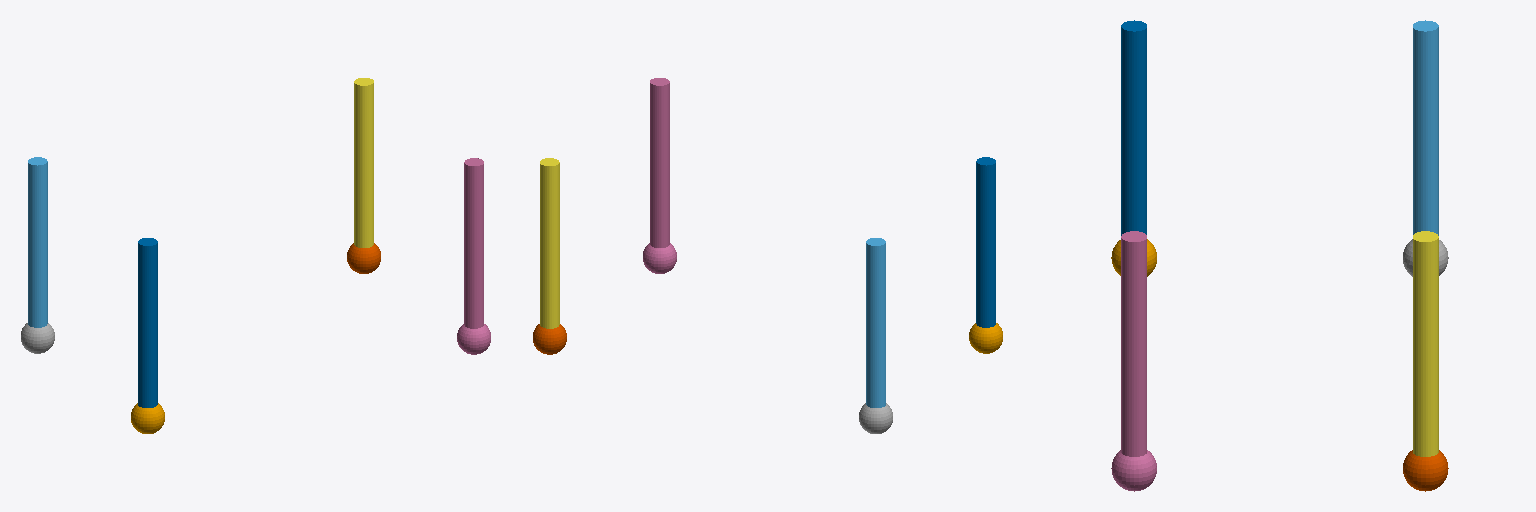
The robot description file, URDF, robot "mini_cheetah":
<?xml version="1.0" ?>
<robot name="mini_cheetah" xmlns:xacro="http://ros.org/wiki/xacro">

    <!--!!!!!!!!!!!!!!!!!!BODY!!!!!!!!!!!!!!!!!!!!!!!!!!!!!!!-->
    <link name="body">
        <inertial>
            <mass value="3.3"/>
            <origin xyz="0.0 0.0 0.0"/>
            <inertia ixx="0.011253" ixy="0" ixz="0" iyy="0.036203" iyz="0" izz="0.042673"/>
        </inertial>
        <visual>
            <geometry>
                <mesh filename="meshes/mini_body.obj"/>
            </geometry>
            <origin rpy="0.0 0.0 0.0" xyz="0.0 0.0 0.0"/>
        </visual>
        <collision>
            <geometry>
                <box size="0.23 0.19 0.1"/>
            </geometry>
            <origin rpy="0 0 0" xyz="0 0 0"/>
        </collision>
    </link>

    <!--!!!!!!!!!!!! Front Left Leg !!!!!!!!!!!!!!!!!!!!!!!!!!!!!!!!!!!!-->
    <joint name="torso_to_abduct_fl_j" type="continuous">
        <axis xyz="1 0 0"/>
        <origin rpy="0 0 0" xyz="0.19 0.049 0.0"/>
        <parent link="body"/>
        <child link="abduct_fl"/>
        <limit effort="18" lower="-1.6" upper="1.6" velocity="40"/>
    </joint>
    <link name="abduct_fl">
        <inertial>
            <mass value="0.54"/>
            <origin xyz="0.0 0.036 0."/>
            <inertia ixx="0.000381" ixy="0.000058" ixz="0.00000045" 
                iyy="0.000560" iyz="0.00000095" izz="0.000444"/>
        </inertial>
        <visual>
            <geometry>
                <mesh filename="meshes/mini_abad.obj"/>
            </geometry>
            <origin rpy="0. 0. -1.5708" xyz="-0.055 0.0 0.0"/>
        </visual>
        <!--
        <collision>
            <geometry>
                <cylinder length ="0.02" radius = "0.0475"/>
            </geometry>
            <origin rpy="0 1.5708 -1.5708" xyz="-0.055 0.0 0.0"/>
        </collision>
        <collision>
            <geometry>
                <cylinder length ="0.06" radius = "0.0475"/>
            </geometry>
            <origin rpy="1.5708 0.0 0.0" xyz="0.0 0.0 0.0"/>
        </collision>
        -->
    </link>

    <joint name="abduct_fl_to_thigh_fl_j" type="continuous">
        <axis xyz="0 -1 0"/>
        <origin rpy="0.0 0.0 0.0" xyz="0.0 0.062 0.00"/>
        <parent link="abduct_fl"/>
        <child link="thigh_fl"/>
        <limit effort="18" lower="-2.6" upper="2.6" velocity="40"/>
    </joint>
    <link name="thigh_fl">
        <inertial>
            <mass value="0.634"/>
            <origin xyz="0.0 0.016 -0.02"/>
            <inertia ixx="0.001983" ixy="0.000245" ixz="0.000013" 
                iyy="0.002103" iyz="0.0000015" izz="0.000508"/>
        </inertial>
        <visual>
            <geometry>
                <mesh filename="meshes/mini_upper_link.obj"/>
            </geometry>
            <origin rpy="0.0 -1.5708 0.0" xyz="0.0 0.0 0.0"/>
        </visual>
        <!--
        <collision>
            <geometry>
                <cylinder length ="0.21" radius = "0.025"/>
            </geometry>
            <origin rpy="0.0 0.0 0.0" xyz="0.0 0.0 -0.105"/>
        </collision>
        -->
    </link>

    <joint name="thigh_fl_to_knee_fl_j" type="continuous">
        <axis xyz="0 -1 0"/>
        <origin rpy="0.0 0 0.0" xyz="0.0 0.0 -0.209"/>
        <parent link="thigh_fl"/>
        <child link="shank_fl"/>
        <limit effort="26" lower="-2.6" upper="2.6" velocity="26"/>
    </joint>
    <link name="shank_fl">
        <inertial>
            <mass value="0.064"/>
            <origin xyz="0.0 0.0 -0.209"/>
            <inertia ixx="0.000245" ixy="0" ixz="0.0" iyy="0.000248" iyz="0" izz="0.000006"/>
        </inertial>
        <visual>
            <geometry>
                <!---<mesh filename="meshes/mini_lower_link.obj"/>-->
                <cylinder length ="0.19" radius = "0.010"/>
            </geometry>
            <origin rpy="0.0 3.141592 0.0" xyz="0.0 0.0 -0.095"/>
        </visual>
        <!--
        <collision>
            <geometry>
                <cylinder length ="0.19" radius = "0.015"/>
            </geometry>
            <origin rpy="0.0 3.141592 0.0" xyz="0 0 -0.095"/>
        </collision>
        <collision>
            <geometry>
                <sphere radius = "0.0175"/>
            </geometry>
            <origin rpy="0.0 3.141592 0.0" xyz="0 0 -0.195"/>
        </collision>
        -->
    </link>


    <!--!!!!!!!!!!!! Front Right Leg !!!!!!!!!!!!!!!!!!!!!!!!!!!!!!!!!!!!-->
    <joint name="torso_to_abduct_fr_j" type="continuous">
        <axis xyz="1 0 0"/>
        <origin rpy="0 0 0" xyz="0.19 -0.049 0.0"/>
        <parent link="body"/>
        <child link="abduct_fr"/>
        <limit effort="18" lower="-1.6" upper="1.6" velocity="40"/>
    </joint>
    <link name="abduct_fr">
        <inertial>
            <mass value="0.54"/>
            <origin xyz="0.0 0.036 0."/>
            <inertia ixx="0.000381" ixy="0.000058" ixz="0.00000045" 
                iyy="0.000560" iyz="0.00000095" izz="0.000444"/>
        </inertial>
        <visual>
            <geometry>
                <mesh filename="meshes/mini_abad.obj"/>
            </geometry>
            <origin rpy="3.141592 0.0 1.5708" xyz="-0.055 0.0 0.0"/>
        </visual>
        <!--
        <collision>
            <geometry>
                <cylinder length ="0.02" radius = "0.0475"/>
            </geometry>
            <origin rpy="3.141592 1.5708 1.5708" xyz="-0.055 0 0"/>
        </collision>
        <collision>
            <geometry>
                <cylinder length ="0.06" radius = "0.0475"/>
            </geometry>
            <origin rpy="1.5708 0.0 0.0" xyz="-0.055 0 0"/>
        </collision>
        -->
    </link>

    <joint name="abduct_fr_to_thigh_fr_j" type="continuous">
        <axis xyz="0 -1 0"/>
        <origin rpy="0.0 0.0 0.0" xyz="0.0 -0.062 0.00"/>
        <parent link="abduct_fr"/>
        <child link="thigh_fr"/>
        <limit effort="18" lower="-2.6" upper="2.6" velocity="40"/>
    </joint>
    <link name="thigh_fr">
        <inertial>
            <mass value="0.634"/>
            <origin xyz="0.0 0.016 -0.02"/>
            <inertia ixx="0.001983" ixy="0.000245" ixz="0.000013" 
                iyy="0.002103" iyz="0.0000015" izz="0.000508"/>
        </inertial>
        <visual>
            <geometry>
                <mesh filename="meshes/mini_upper_link.obj"/>
            </geometry>
            <origin rpy="0.0 -1.5708 0.0" xyz="0.0 0.0 0.0"/>
        </visual>
        <!--
        <collision>
            <geometry>
                <cylinder length ="0.21" radius = "0.025"/>
            </geometry>
            <origin rpy="0.0 0.0 0.0" xyz="0.0 0.0 -0.105"/>
        </collision>
        -->
    </link>

    <joint name="thigh_fr_to_knee_fr_j" type="continuous">
        <axis xyz="0 -1 0"/>
        <origin rpy="0.0 0 0.0" xyz="0.0 0.0 -0.209"/>
        <parent link="thigh_fr"/>
        <child link="shank_fr"/>
        <limit effort="26" lower="-2.6" upper="2.6" velocity="26"/>
    </joint>
    <link name="shank_fr">
        <inertial>
            <mass value="0.064"/>
            <origin xyz="0.0 0.0 -0.209"/>
            <inertia ixx="0.000245" ixy="0" ixz="0.0" iyy="0.000248" iyz="0" izz="0.000006"/>
        </inertial>
        <visual>
            <geometry>
                <!--<mesh filename="meshes/mini_lower_link.obj"/>-->
                <cylinder length ="0.19" radius = "0.010"/>
            </geometry>
            <origin rpy="0.0 3.141592 0.0" xyz="0.0 0.0 -0.095"/>
        </visual>
        <!--
        <collision>
            <geometry>
                <cylinder length ="0.19" radius = "0.015"/>
            </geometry>
            <origin rpy="0.0 3.141592 0.0" xyz="0.0 0.0 -0.095"/>
        </collision>
        <collision>
            <geometry>
                <sphere radius = "0.0175"/>
            </geometry>
            <origin rpy="0.0 3.141592 0" xyz="0.0 0.0 -0.195"/>
        </collision>
        -->
    </link>


    <!--!!!!!!!!!!!! Hind Left Leg !!!!!!!!!!!!!!!!!!!!!!!!!!!!!!!!!!!!-->
    <joint name="torso_to_abduct_hl_j" type="continuous">
        <axis xyz="1 0 0"/>
        <origin rpy="0 0 0" xyz="-0.19 0.049 0.0"/>
        <parent link="body"/>
        <child link="abduct_hl"/>
        <limit effort="18" lower="-1.6" upper="1.6" velocity="40"/>
    </joint>
    <link name="abduct_hl">
        <inertial>
            <mass value="0.54"/>
            <origin xyz="0.0 0.036 0."/>
            <inertia ixx="0.000381" ixy="0.000058" ixz="0.00000045" 
                iyy="0.000560" iyz="0.00000095" izz="0.000444"/>
        </inertial>
        <visual>
            <geometry>
                <mesh filename="meshes/mini_abad.obj"/>
            </geometry>
            <origin rpy="3.141592 0.0 -1.5708" xyz="0.055 0.0 0.0"/>
        </visual>
        <!--
        <collision>
            <geometry>
                <cylinder length ="0.02" radius = "0.0475"/>
            </geometry>
            <origin rpy="3.141592 1.5708 -1.5708" xyz="0.055 0 0"/>
        </collision>
        <collision>
            <geometry>
                <cylinder length ="0.06" radius = "0.0475"/>
            </geometry>
            <origin rpy="1.5708 0.0 0.0" xyz="0.0 0.0 0.0"/>
        </collision>
        -->
    </link>

    <joint name="abduct_hl_to_thigh_hl_j" type="continuous">
        <axis xyz="0 -1 0"/>
        <origin rpy="0.0 0.0 0.0" xyz="0.0 0.062 0.00"/>
        <parent link="abduct_hl"/>
        <child link="thigh_hl"/>
        <limit effort="18" lower="-2.6" upper="2.6" velocity="40"/>
    </joint>
    <link name="thigh_hl">
        <inertial>
            <mass value="0.634"/>
            <origin xyz="0.0 0.016 -0.02"/>
            <inertia ixx="0.001983" ixy="0.000245" ixz="0.000013" 
                iyy="0.002103" iyz="0.0000015" izz="0.000508"/>
        </inertial>
        <visual>
            <geometry>
                <mesh filename="meshes/mini_upper_link.obj"/>
            </geometry>
            <origin rpy="0.0 -1.5708 3.1415" xyz="0.0 0.0 0.0"/>
        </visual>
        <!--
        <collision>
            <geometry>
                <cylinder length ="0.21" radius = "0.025"/>
            </geometry>
            <origin rpy="0.0 0.0 0.0" xyz="0.0 0.0 -0.105"/>
        </collision>
        -->
    </link>

    <joint name="thigh_hl_to_knee_hl_j" type="continuous">
        <axis xyz="0 -1 0"/>
        <origin rpy="0.0 0 0.0" xyz="0.0 0.0 -0.209"/>
        <parent link="thigh_hl"/>
        <child link="shank_hl"/>
        <limit effort="26" lower="-2.6" upper="2.6" velocity="26"/>
    </joint>
    <link name="shank_hl">
        <inertial>
            <mass value="0.064"/>
            <origin xyz="0.0 0.0 -0.209"/>
            <inertia ixx="0.000245" ixy="0" ixz="0.0" iyy="0.000248" iyz="0" izz="0.000006"/>
        </inertial>
        <visual>
            <geometry>
                <!--mesh filename="meshes/mini_lower_link.obj"/-->
                <cylinder length ="0.19" radius = "0.010"/>
            </geometry>
            <origin rpy="0.0 3.141592 0.0" xyz="0.0 0.0 -0.095"/>
        </visual>
        <!--
        <collision>
            <geometry>
                <cylinder length ="0.19" radius = "0.015"/>
            </geometry>
            <origin rpy="0.0 3.141592 0.0" xyz="0.0 0.0 -0.095"/>
        </collision>
        <collision>
            <geometry>
                <sphere radius = "0.0175"/>
            </geometry>
            <origin rpy="0.0 3.141592 0.0" xyz="0.0 0.0 -0.195"/>
        </collision>
        -->
    </link>


    <!--!!!!!!!!!!!! Hind Right Leg !!!!!!!!!!!!!!!!!!!!!!!!!!!!!!!!!!!!-->
    <joint name="torso_to_abduct_hr_j" type="continuous">
        <axis xyz="1 0 0"/>
        <origin rpy="0 0 0" xyz="-0.19 -0.049 0.0"/>
        <parent link="body"/>
        <child link="abduct_hr"/>
        <limit effort="18" lower="-1.6" upper="1.6" velocity="40"/>
    </joint>
    <link name="abduct_hr">
        <inertial>
            <mass value="0.54"/>
            <origin xyz="0.0 0.036 0."/>
            <inertia ixx="0.000381" ixy="0.000058" ixz="0.00000045" 
                iyy="0.000560" iyz="0.00000095" izz="0.000444"/>
        </inertial>
        <visual>
            <geometry>
                <mesh filename="meshes/mini_abad.obj"/>
            </geometry>
            <origin rpy="0.0 0.0 1.5708" xyz="0.055 0.0 0.0"/>
        </visual>
        <!--
        <collision>
            <geometry>
                <cylinder length ="0.02" radius = "0.0475"/>
            </geometry>
            <origin rpy="0.0 1.5708 1.5708" xyz="0.055 0.0 0.0"/>
        </collision>
        <collision>
            <geometry>
                <cylinder length ="0.06" radius = "0.0475"/>
            </geometry>
            <origin rpy="1.5708 0.0 0.0" xyz="0.0 0.0 0.0"/>
        </collision>
        -->
    </link>

    <joint name="abduct_hr_to_thigh_hr_j" type="continuous">
        <axis xyz="0 -1 0"/>
        <origin rpy="0.0 0.0 0.0" xyz="0.0 -0.062 0.00"/>
        <parent link="abduct_hr"/>
        <child link="thigh_hr"/>
        <limit effort="18" lower="-2.6" upper="2.6" velocity="40"/>
    </joint>
    <link name="thigh_hr">
        <inertial>
            <mass value="0.634"/>
            <origin xyz="0.0 0.016 -0.02"/>
            <inertia ixx="0.001983" ixy="0.000245" ixz="0.000013" 
                iyy="0.002103" iyz="0.0000015" izz="0.000508"/>
        </inertial>
        <visual>
            <geometry>
                <mesh filename="meshes/mini_upper_link.obj"/>
            </geometry>
            <origin rpy="0.0 -1.5708 3.1415" xyz="0.0 0.0 0.0"/>
        </visual>
        <!--
        <collision>
            <geometry>
                <cylinder length ="0.21" radius = "0.025"/>
            </geometry>
            <origin rpy="0.0 0.0 0.0" xyz="0.0 0.0 -0.105"/>
        </collision>
        -->
    </link>

    <joint name="thigh_hr_to_knee_hr_j" type="continuous">
        <axis xyz="0 -1 0"/>
        <origin rpy="0.0 0 0.0" xyz="0.0 0.0 -0.209"/>
        <parent link="thigh_hr"/>
        <child link="shank_hr"/>
        <limit effort="26" lower="-2.6" upper="2.6" velocity="26"/>
    </joint>
    <link name="shank_hr">
        <inertial>
            <mass value="0.064"/>
            <origin xyz="0.0 0.0 -0.209"/>
            <inertia ixx="0.000245" ixy="0" ixz="0.0" iyy="0.000248" iyz="0" izz="0.000006"/>
        </inertial>
        <visual>
            <geometry>
                <!--mesh filename="meshes/mini_lower_link.obj"/-->
                <cylinder length ="0.19" radius = "0.010"/>
            </geometry>
            <origin rpy="0.0 3.141592 0.0" xyz="0 0 -0.095"/>
        </visual>
        <!--
        <collision>
            <geometry>
                <cylinder length ="0.19" radius = "0.015"/>
            </geometry>
            <origin rpy="0.0 3.141592 0.0" xyz="0 0 -0.095"/>
        </collision>
        <collision>
            <geometry>
                <sphere radius = "0.0175"/>
            </geometry>
            <origin rpy="0.0 3.141592 0.0" xyz="0.0 0.0 -0.195"/>
        </collision>
        -->
    </link>

    <!-- Add foot links to enable relevent computations, including better collision detection -->
    <joint name="shank_fl_to_foot_fl" type="fixed">
        <parent link="shank_fl"/>
        <child link="LF_FOOT"/>
        <origin rpy="0.0 0.0 0.0" xyz="0.0 0.0 -0.195"/>
    </joint>
    <link name="LF_FOOT">
        <collision>
            <geometry>
                <sphere radius = "0.0175"/>
            </geometry>
            <origin rpy="0.0 0.0 0.0" xyz="0.0 0.0 0.0"/>
        </collision>
        <visual>
            <geometry>
                <sphere radius = "0.0175"/>
            </geometry>
            <origin rpy="0.0 0.0 0.0" xyz="0.0 0.0 0.0"/>
        </visual>
    </link>
    
    <joint name="shank_fr_to_foot_fr" type="fixed">
        <parent link="shank_fr"/>
        <child link="RF_FOOT"/>
        <origin rpy="0.0 0.0 0.0" xyz="0.0 0.0 -0.195"/>
    </joint>
    <link name="RF_FOOT">
        <collision>
            <geometry>
                <sphere radius = "0.0175"/>
            </geometry>
            <origin rpy="0.0 0.0 0.0" xyz="0.0 0.0 0.0"/>
        </collision>
        <visual>
            <geometry>
                <sphere radius = "0.0175"/>
            </geometry>
            <origin rpy="0.0 0.0 0.0" xyz="0.0 0.0 0.0"/>
        </visual>
    </link>
    
    <joint name="shank_hl_to_foot_hl" type="fixed">
        <parent link="shank_hl"/>
        <child link="LH_FOOT"/>
        <origin rpy="0.0 0.0 0.0" xyz="0.0 0.0 -0.195"/>
    </joint>
    <link name="LH_FOOT">
        <collision>
            <geometry>
                <sphere radius = "0.0175"/>
            </geometry>
            <origin rpy="0.0 0.0 0.0" xyz="0.0 0.0 0.0"/>
        </collision>
        <visual>
            <geometry>
                <sphere radius = "0.0175"/>
            </geometry>
            <origin rpy="0.0 0.0 0.0" xyz="0.0 0.0 0.0"/>
        </visual>
    </link>
    
    <joint name="shank_hr_to_foot_hr" type="fixed">
        <parent link="shank_hr"/>
        <child link="RH_FOOT"/>
        <origin rpy="0.0 0.0 0.0" xyz="0.0 0.0 -0.195"/>
    </joint>
    <link name="RH_FOOT">
        <collision>
            <geometry>
                <sphere radius = "0.0175"/>
            </geometry>
            <origin rpy="0.0 0.0 0.0" xyz="0.0 0.0 0.0"/>
        </collision>
        <visual>
            <geometry>
                <sphere radius = "0.0175"/>
            </geometry>
            <origin rpy="0.0 0.0 0.0" xyz="0.0 0.0 0.0"/>
        </visual>
    </link>

    <!-- Joint Transmissions: Tells Drake that these are actuated -->
    <transmission name="torso_to_abduct_fl_j_transmission">
        <type>transmission_interface/SimpleTransmission</type>
        <joint name="torso_to_abduct_fl_j"/>
        <actuator name="torso_to_abduct_fl_j_actuator"/>
    </transmission>
    <transmission name="abduct_fl_to_thigh_fl_j_transmission">
        <type>transmission_interface/SimpleTransmission</type>
        <joint name="abduct_fl_to_thigh_fl_j"/>
        <actuator name="abduct_fl_to_thigh_fl_j_actuator"/>
    </transmission>
    <transmission name="thigh_fl_to_knee_fl_j_transmission">
        <type>transmission_interface/SimpleTransmission</type>
        <joint name="thigh_fl_to_knee_fl_j"/>
        <actuator name="thigh_fl_to_knee_fl_j_actuator"/>
    </transmission>

    <transmission name="torso_to_abduct_fr_j_transmission">
        <type>transmission_interface/SimpleTransmission</type>
        <joint name="torso_to_abduct_fr_j"/>
        <actuator name="torso_to_abduct_fr_j_actuator"/>
    </transmission>
    <transmission name="abduct_fr_to_thigh_fr_j_transmission">
        <type>transmission_interface/SimpleTransmission</type>
        <joint name="abduct_fr_to_thigh_fr_j"/>
        <actuator name="abduct_fr_to_thigh_fr_j_actuator"/>
    </transmission>
    <transmission name="thigh_fr_to_knee_fr_j_transmission">
        <type>transmission_interface/SimpleTransmission</type>
        <joint name="thigh_fr_to_knee_fr_j"/>
        <actuator name="thigh_fr_to_knee_fr_j_actuator"/>
    </transmission>

    <transmission name="torso_to_abduct_hl_j_transmission">
        <type>transmission_interface/SimpleTransmission</type>
        <joint name="torso_to_abduct_hl_j"/>
        <actuator name="torso_to_abduct_hl_j_actuator"/>
    </transmission>
    <transmission name="abduct_hl_to_thigh_hl_j_transmission">
        <type>transmission_interface/SimpleTransmission</type>
        <joint name="abduct_hl_to_thigh_hl_j"/>
        <actuator name="abduct_hl_to_thigh_hl_j_actuator"/>
    </transmission>
    <transmission name="thigh_hl_to_knee_hl_j_transmission">
        <type>transmission_interface/SimpleTransmission</type>
        <joint name="thigh_hl_to_knee_hl_j"/>
        <actuator name="thigh_hl_to_knee_hl_j_actuator"/>
    </transmission>

    <transmission name="torso_to_abduct_hr_j_transmission">
        <type>transmission_interface/SimpleTransmission</type>
        <joint name="torso_to_abduct_hr_j"/>
        <actuator name="torso_to_abduct_hr_j_actuator"/>
    </transmission>
    <transmission name="abduct_hr_to_thigh_hr_j_transmission">
        <type>transmission_interface/SimpleTransmission</type>
        <joint name="abduct_hr_to_thigh_hr_j"/>
        <actuator name="abduct_hr_to_thigh_hr_j_actuator"/>
    </transmission>
    <transmission name="thigh_hr_to_knee_hr_j_transmission">
        <type>transmission_interface/SimpleTransmission</type>
        <joint name="thigh_hr_to_knee_hr_j"/>
        <actuator name="thigh_hr_to_knee_hr_j_actuator"/>
    </transmission>

</robot>

--- Facts derived from the render (not from the file) ---
Views: 3 orthographic renders of the robot side by side, from view 1: azimuth 30°, elevation 25°; view 2: azimuth 150°, elevation 25°; view 3: azimuth 270°, elevation 25°.
Model mini_cheetah with 17 links and 16 joints (12 continuous, 4 fixed), rooted at body, posed every joint at zero.
Visible links, largest first — view 1: shank_fr, shank_hl, shank_fl, shank_hr, RH_FOOT, LF_FOOT, RF_FOOT, LH_FOOT; view 2: shank_fl, shank_hr, shank_fr, shank_hl, LH_FOOT, RF_FOOT, LF_FOOT, RH_FOOT; view 3: shank_fl, shank_fr, shank_hl, shank_hr, LF_FOOT, RF_FOOT.
Link boxes in pixels (x1,y1,x2,y2): shank_fr: (464,158,483,328); shank_hl: (28,157,47,327); shank_fl: (354,78,373,247); shank_hr: (138,238,157,407); RH_FOOT: (131,403,164,433); LF_FOOT: (347,243,380,273); RF_FOOT: (457,324,490,354); LH_FOOT: (21,323,54,353); shank_fl: (540,158,559,328); shank_hr: (976,157,995,327); shank_fr: (650,78,669,247); shank_hl: (866,238,885,407); LH_FOOT: (859,403,892,433); RF_FOOT: (643,243,676,273); LF_FOOT: (533,324,566,354); RH_FOOT: (969,323,1002,353); shank_fl: (1413,231,1438,456); shank_fr: (1121,231,1146,456); shank_hl: (1413,20,1438,235); shank_hr: (1121,20,1146,235); LF_FOOT: (1403,450,1448,491); RF_FOOT: (1111,450,1156,491).
Size in the robot's own frame: 0.415 by 0.257 by 0.2125 metres.
Meshes: 3 distinct files referenced, 0 mesh visuals loaded (none loaded); not drawn: 9 (reference not matched to a file when rendering).